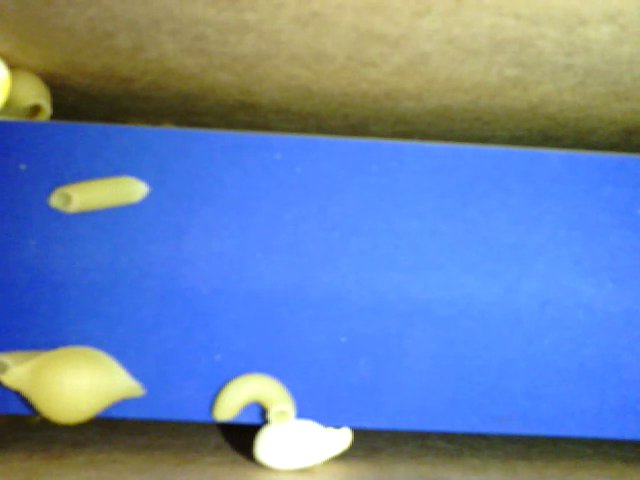elbow: (212, 372, 297, 424)
penne: (44, 170, 154, 217)
shell: (3, 348, 151, 421), (2, 59, 59, 123)
